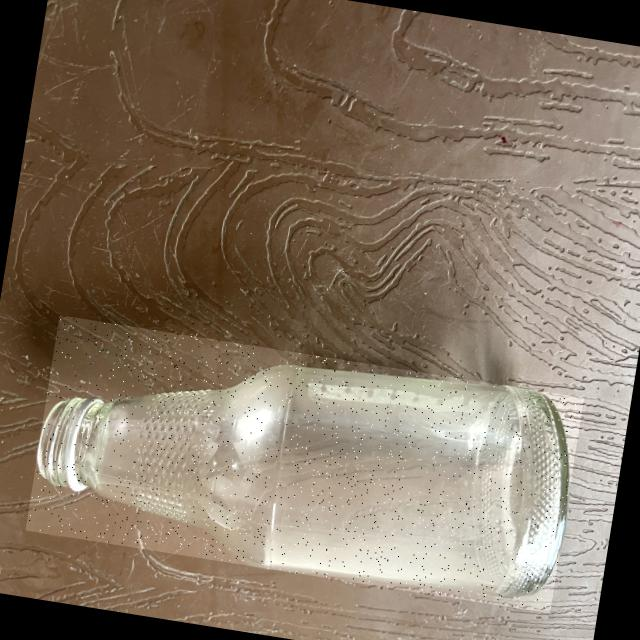Glass_Bottle: (38, 366, 568, 597)
